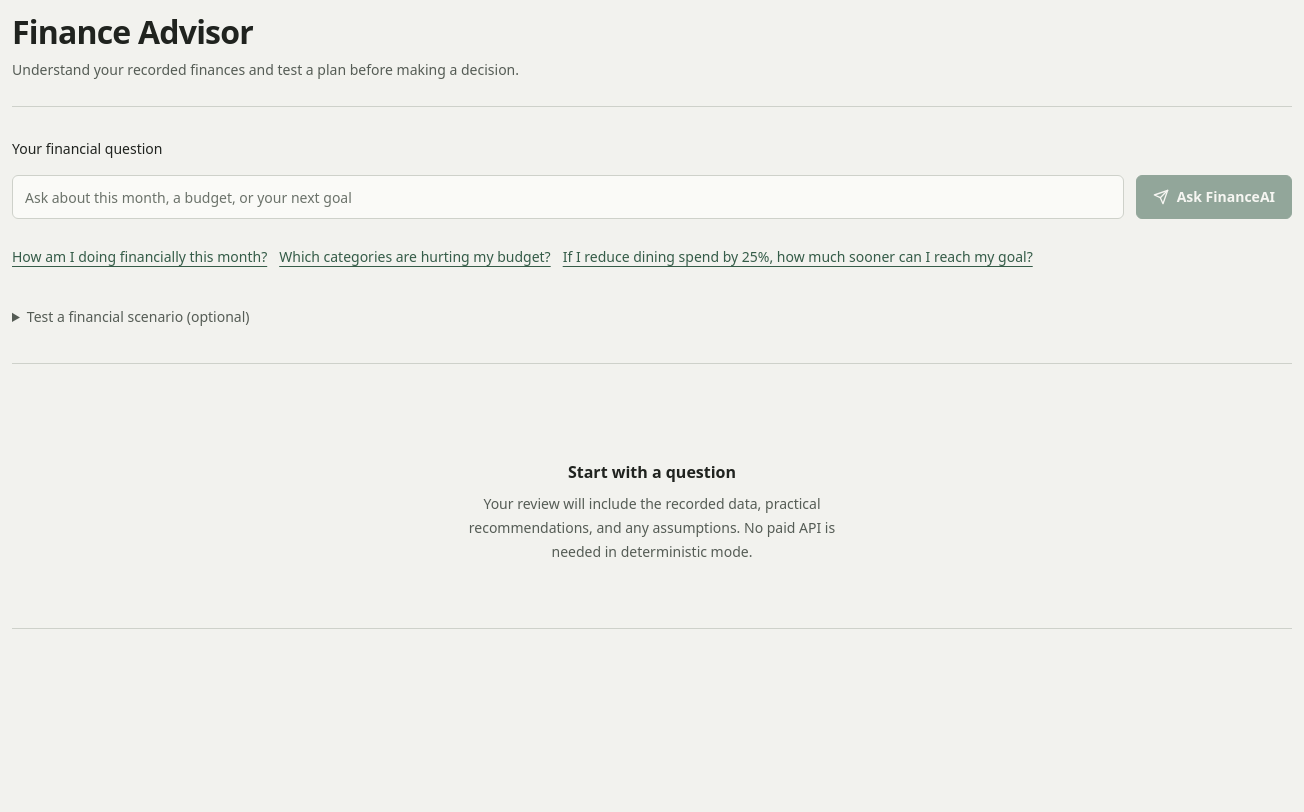
Test case: Finance Advisor workspace › shows evidence, recommendations and optional activity without redesigning the workspace
Type "What should I prioritize?" into the field labelled "Your financial question" at (568, 197), box 12,175 -> 1124,219
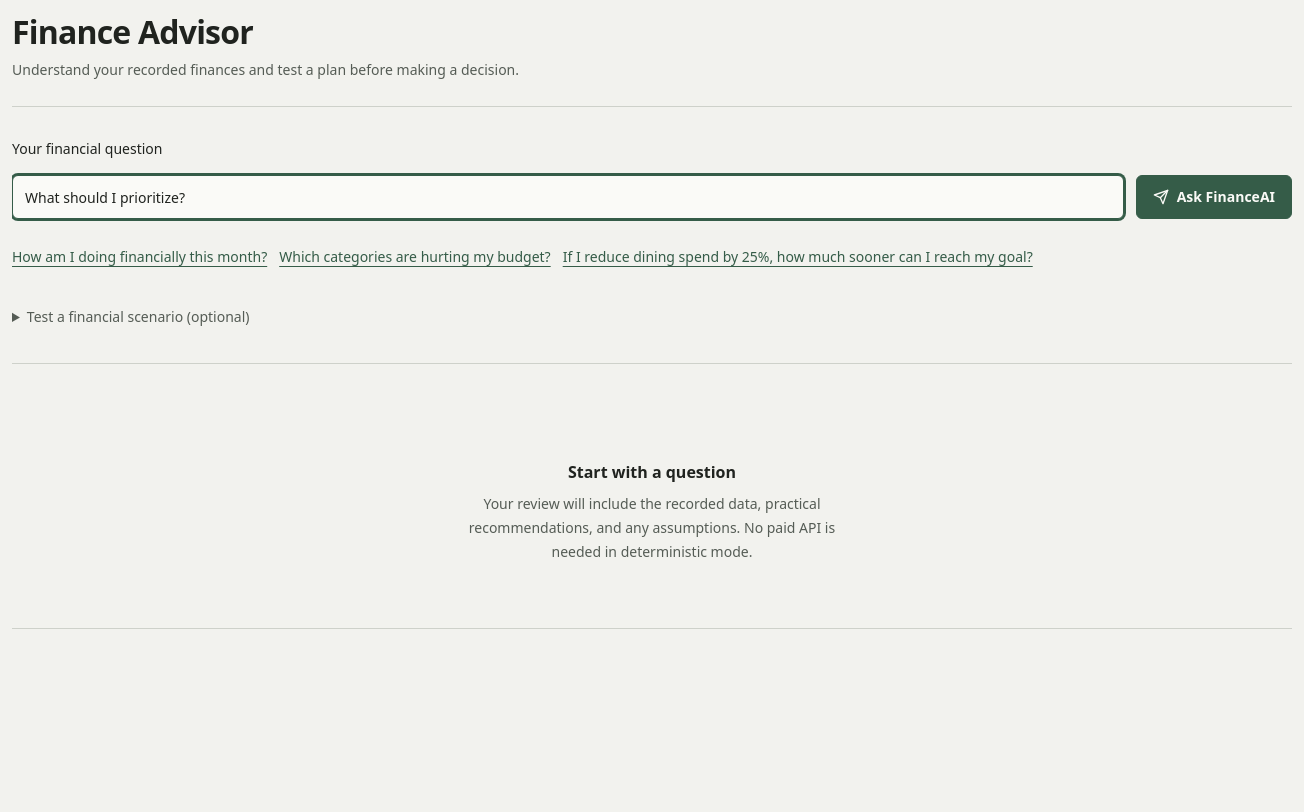
Click the button "Ask FinanceAI" at (1214, 197), box 1136,175 -> 1292,219
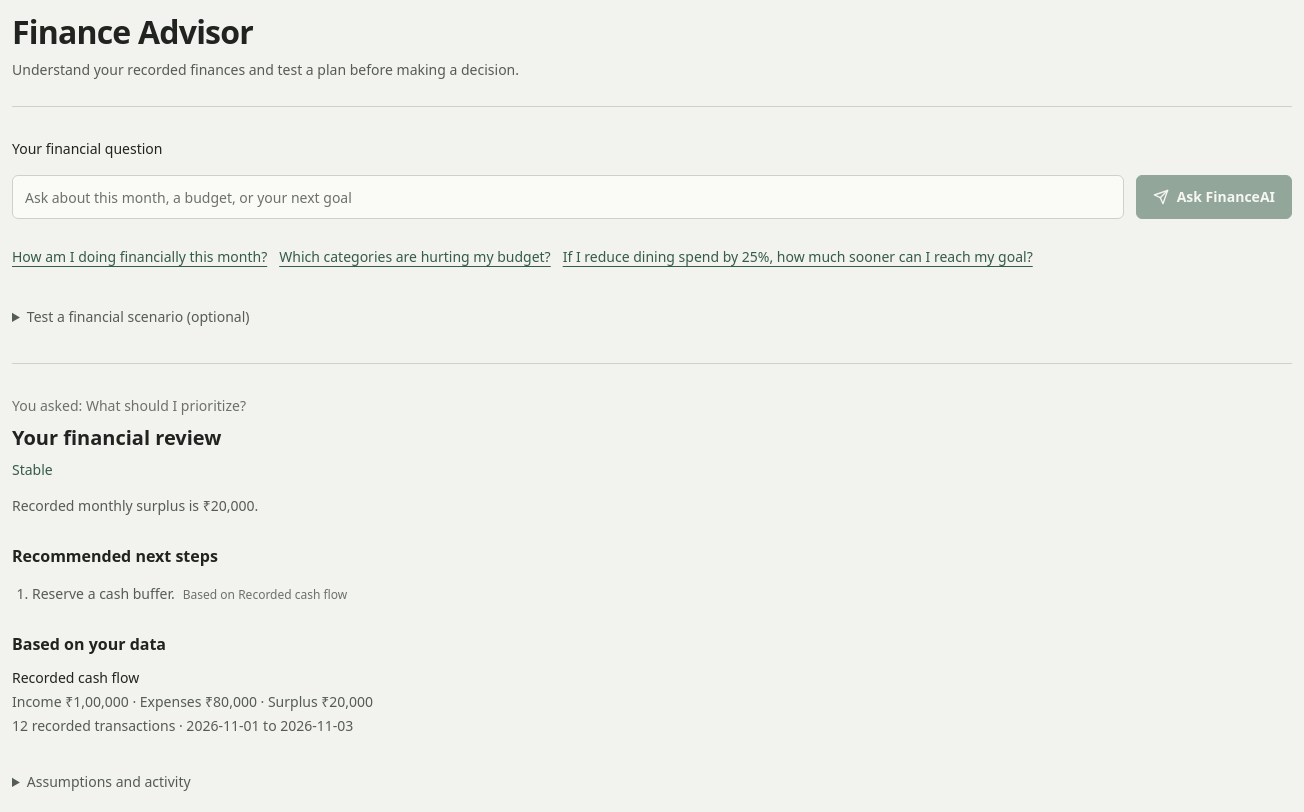
Result: the text "Recorded monthly surplus is ₹20,000." is shown at 12,496 -> 258,515
Result: the text "Income ₹1,00,000 · Expenses ₹80,000 · Surplus ₹20,000" is shown at 12,692 -> 373,711
Result: the list item "Reserve a cash buffer." is shown at 32,584 -> 175,603
